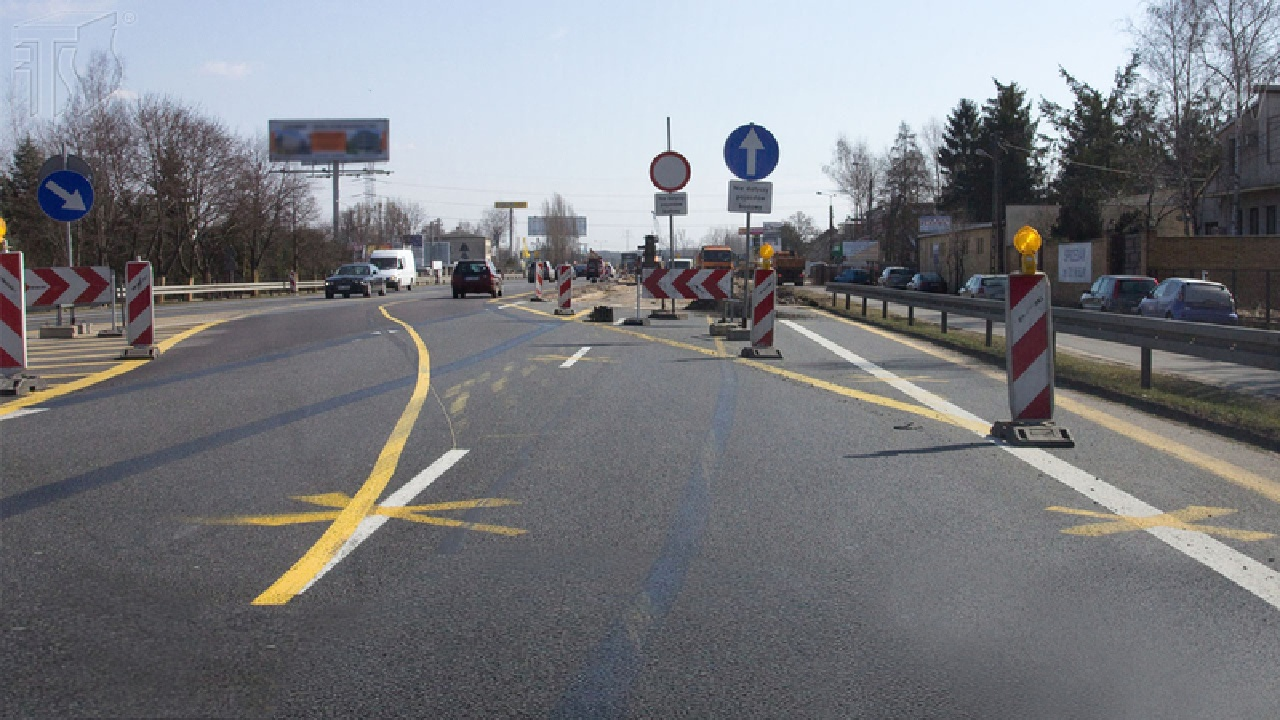C5: (725, 125, 779, 181)
C9: (38, 169, 94, 223)
